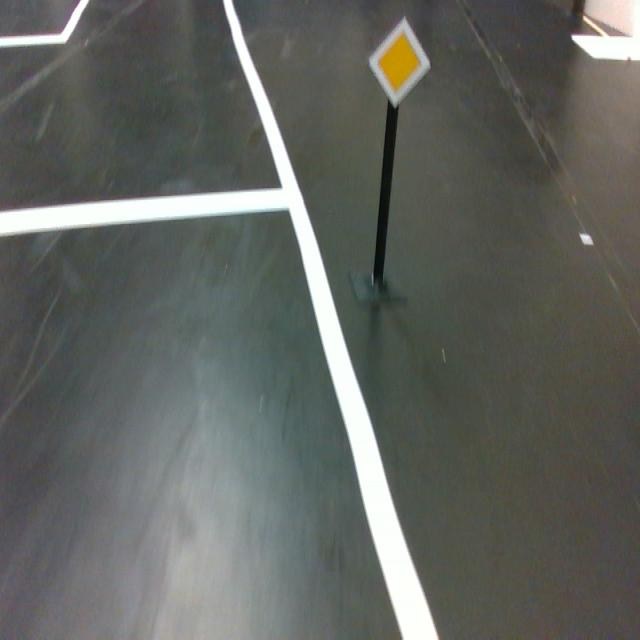priority-sign: (366, 14, 432, 110)
